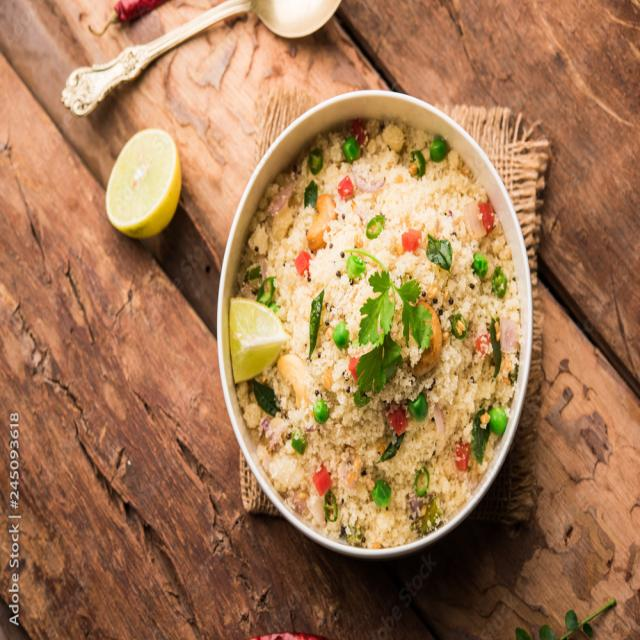UPMA: (231, 122, 522, 544)
